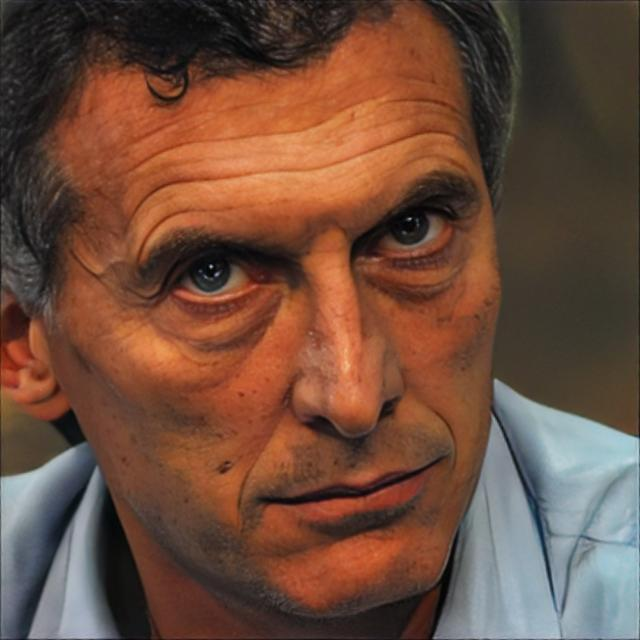anger: (80, 56, 500, 618)
